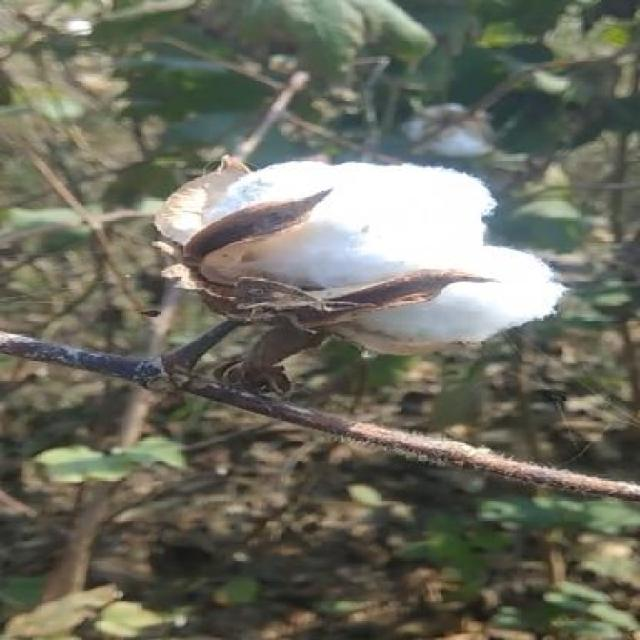cotton_ready: (127, 126, 576, 468)
